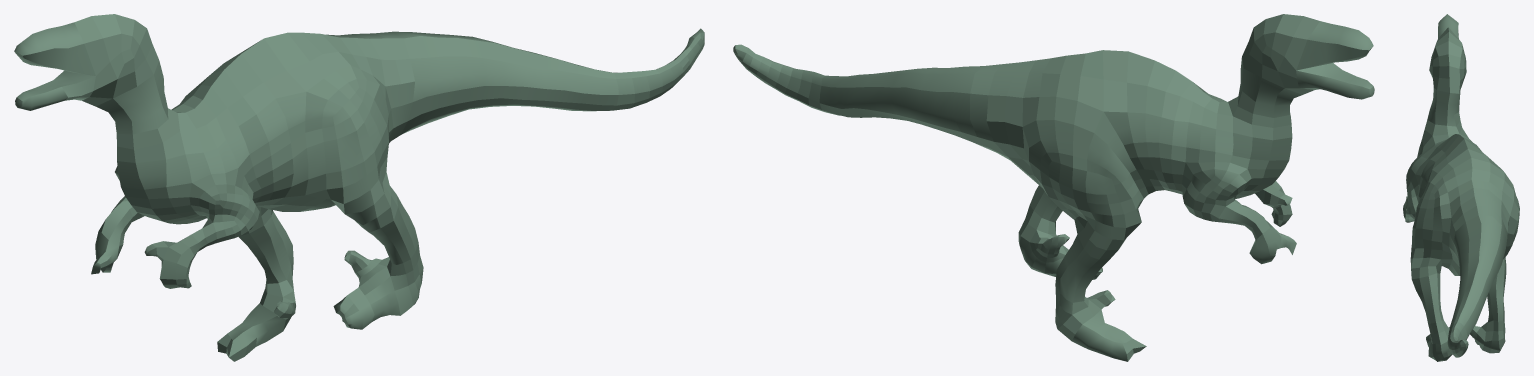
The model's file is dinosaur.fbx.
The picture shows the model from 3 angles, left to right: view 1: azimuth 30°, elevation 25°; view 2: azimuth 150°, elevation 25°; view 3: azimuth 270°, elevation 25°; orthographic projection. The views are drawn at different scales.
Visible parts, largest first — view 1: dinobody; view 2: dinobody; view 3: dinobody.
Boxes of the visible parts, left/top/right/bottom form: dinobody: left=14, top=14, right=704, bottom=361; dinobody: left=733, top=14, right=1374, bottom=361; dinobody: left=1403, top=14, right=1519, bottom=361.
Bounding box in the file's own units: 484 × 264 × 108.
